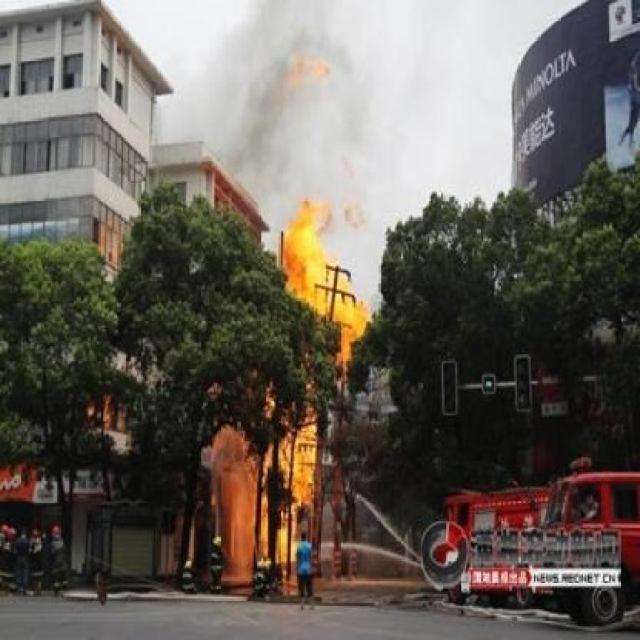Fire: (283, 193, 338, 310)
